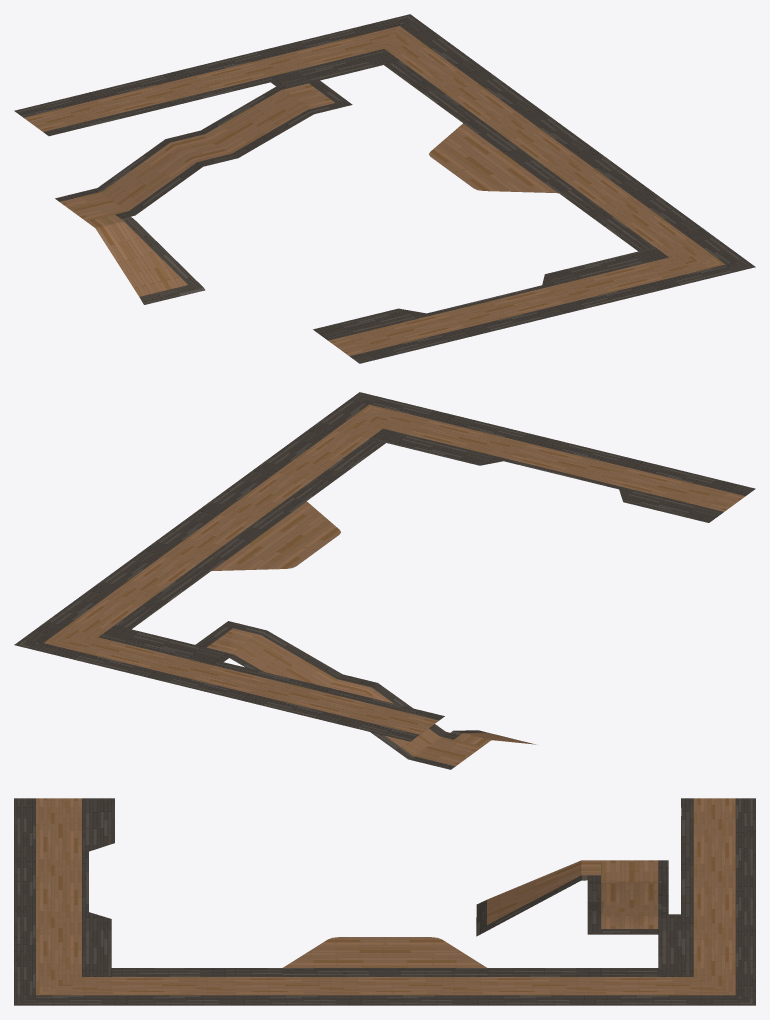
The model's file is ScienceBuilding_MainHall _02_NavFloor.fbx.
The picture shows the model from 3 angles, top to bottom: view 1: azimuth 30°, elevation 25°; view 2: azimuth 150°, elevation 25°; view 3: azimuth 270°, elevation 25°; orthographic projection. The views are drawn at different scales.
Parts seen in each view (by area): view 1: ScienceBuilding_MainHall _02_NavFloor; view 2: ScienceBuilding_MainHall _02_NavFloor; view 3: ScienceBuilding_MainHall _02_NavFloor.
Boxes of the visible parts, x1,y1,x2,y2 form: ScienceBuilding_MainHall _02_NavFloor: (14, 14, 755, 363); ScienceBuilding_MainHall _02_NavFloor: (14, 392, 755, 769); ScienceBuilding_MainHall _02_NavFloor: (14, 798, 755, 1005).
Size of the model in its own units: 3761 by 899 by 5682.
